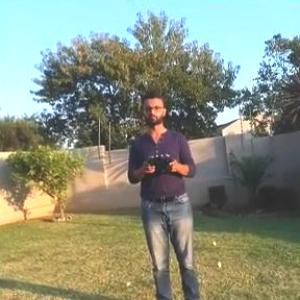follow: (124, 78, 205, 299)
